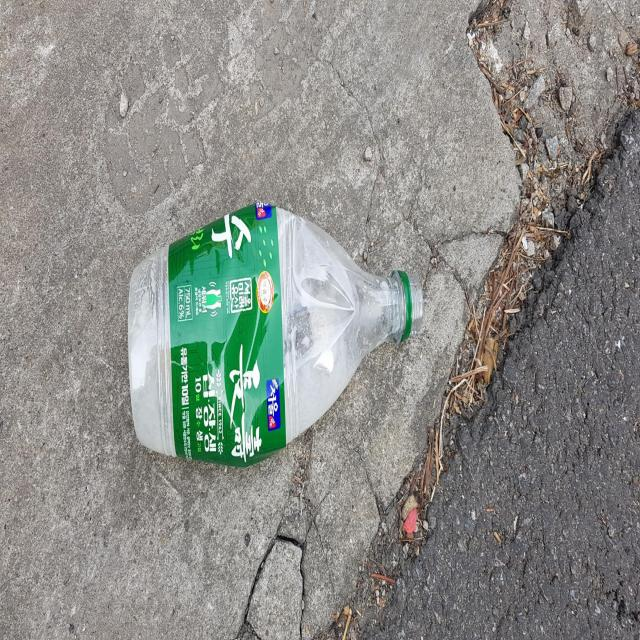plastic: (128, 201, 424, 465)
